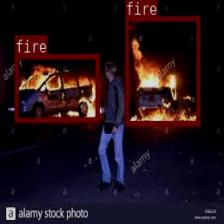fire: (124, 15, 200, 126), (14, 53, 99, 121)
